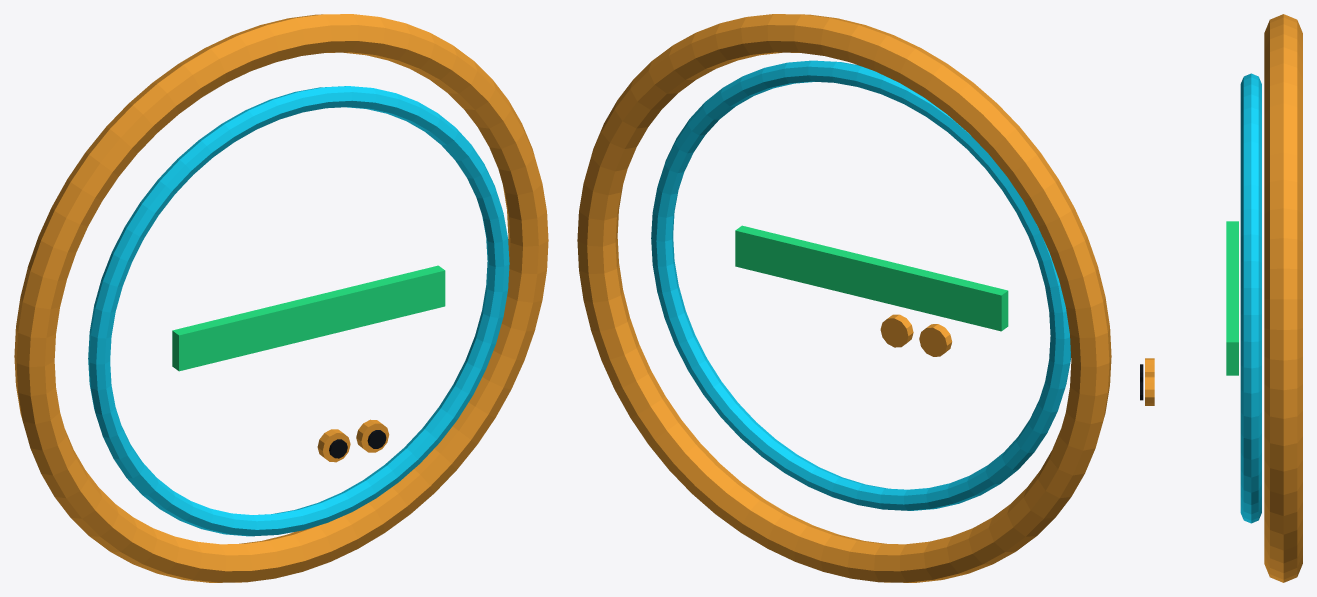
The model's file is 88_L89_StormShelterCertificationBeacon.fbx.
The picture shows the model from 3 angles, left to right: view 1: azimuth 30°, elevation 25°; view 2: azimuth 150°, elevation 25°; view 3: azimuth 270°, elevation 25°; orthographic projection. The views are drawn at different scales.
Visible parts, largest first — view 1: L87_StormShelterCertificationBeacon_Part_0000, L87_StormShelterCertificationBeacon_Part_0001, L87_StormShelterCertificationBeacon_Part_0002; view 2: L87_StormShelterCertificationBeacon_Part_0000, L87_StormShelterCertificationBeacon_Part_0001, L87_StormShelterCertificationBeacon_Part_0002, L87_StormShelterCertificationBeacon_Part_0005, L87_StormShelterCertificationBeacon_Part_0003; view 3: L87_StormShelterCertificationBeacon_Part_0000, L87_StormShelterCertificationBeacon_Part_0001, L87_StormShelterCertificationBeacon_Part_0002, L87_StormShelterCertificationBeacon_Part_0005.
Boxes of the visible parts, x1=… form: L87_StormShelterCertificationBeacon_Part_0000: x1=14, y1=14, x2=548, y2=582; L87_StormShelterCertificationBeacon_Part_0001: x1=88, y1=86, x2=509, y2=536; L87_StormShelterCertificationBeacon_Part_0002: x1=172, y1=265, x2=445, y2=371; L87_StormShelterCertificationBeacon_Part_0000: x1=577, y1=14, x2=1111, y2=582; L87_StormShelterCertificationBeacon_Part_0001: x1=651, y1=60, x2=1070, y2=510; L87_StormShelterCertificationBeacon_Part_0002: x1=735, y1=225, x2=1008, y2=331; L87_StormShelterCertificationBeacon_Part_0005: x1=880, y1=314, x2=913, y2=347; L87_StormShelterCertificationBeacon_Part_0003: x1=919, y1=324, x2=952, y2=356; L87_StormShelterCertificationBeacon_Part_0000: x1=1264, y1=14, x2=1302, y2=582; L87_StormShelterCertificationBeacon_Part_0001: x1=1240, y1=73, x2=1261, y2=523; L87_StormShelterCertificationBeacon_Part_0002: x1=1226, y1=221, x2=1238, y2=375; L87_StormShelterCertificationBeacon_Part_0005: x1=1145, y1=376, x2=1154, y2=405.
Bounding box in the file's own units: 247 × 246 × 70.6.
